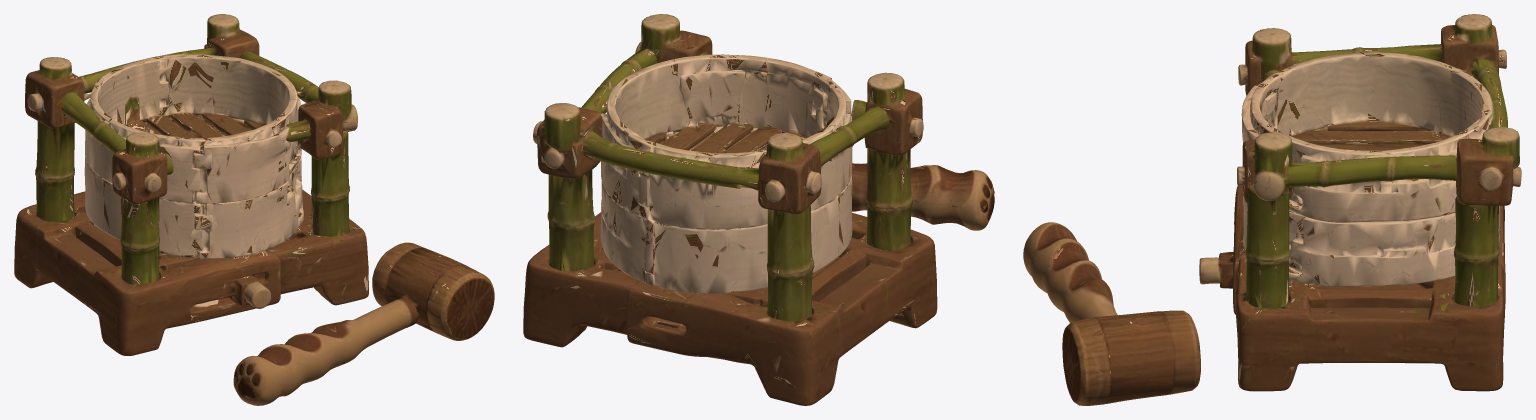
The model's file is developer.glb.
3 renders of one model, left to right at view 1: azimuth 30°, elevation 25°; view 2: azimuth 150°, elevation 25°; view 3: azimuth 270°, elevation 25°, orthographic. The views are drawn at different scales.
Bounding box in the file's own units: 1.57 × 1.05 × 1.9.
Materials: 1 (1 with a texture image).
